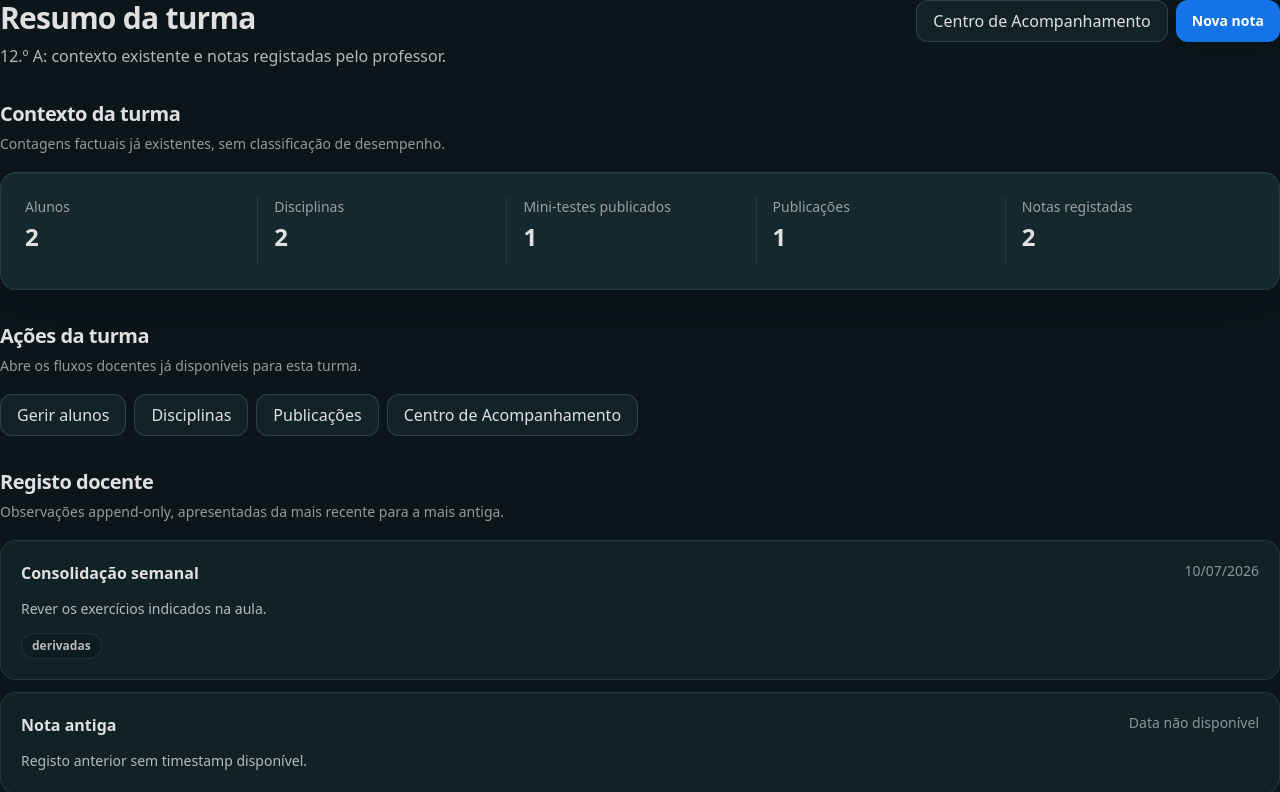
it: TeacherClassProgressPage › cria uma nota normalizada e confirma sem abandonar a página
The width and height of the screenshot is (1280, 792).
Click the button "Nova nota". click: [1228, 21]
box: [1176,0,1279,42]
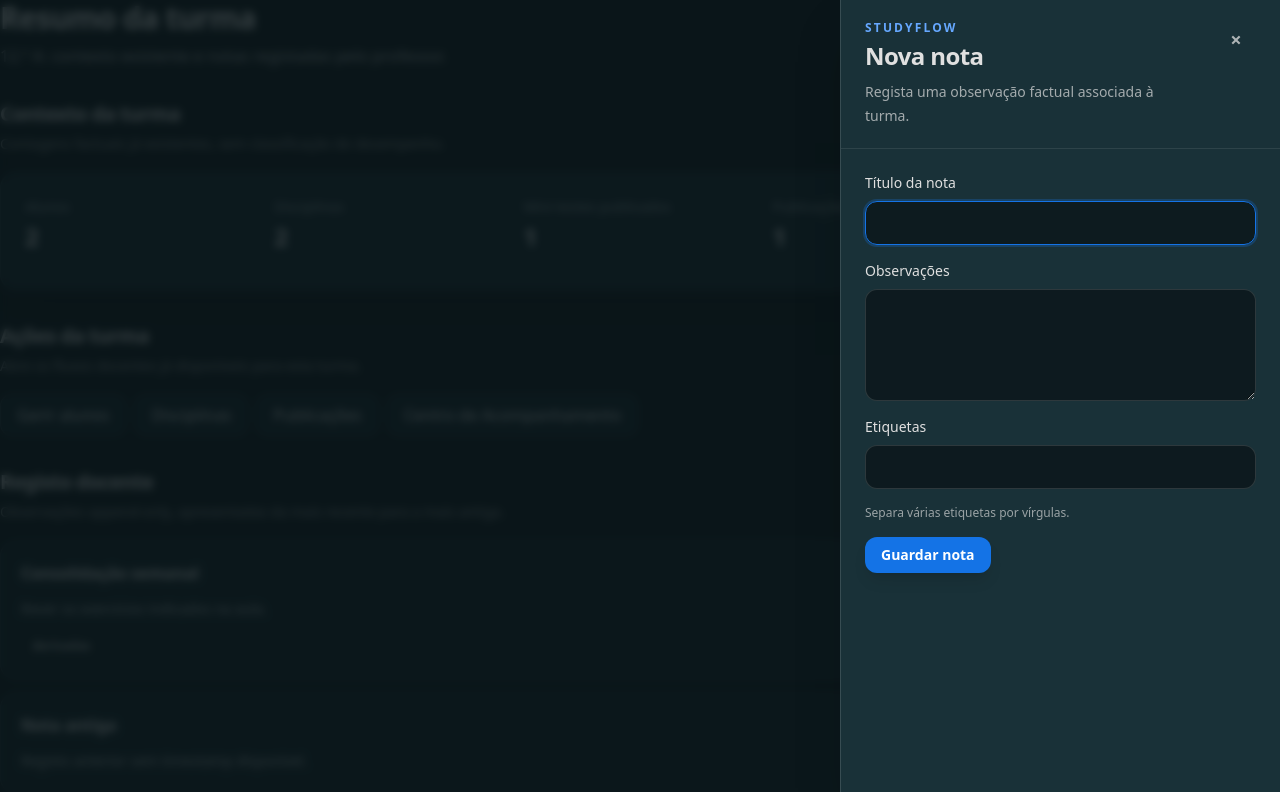
Type "  Nova observação  " into the field labelled "Título da nota". click: [1060, 223]
box: [865,201,1256,245]
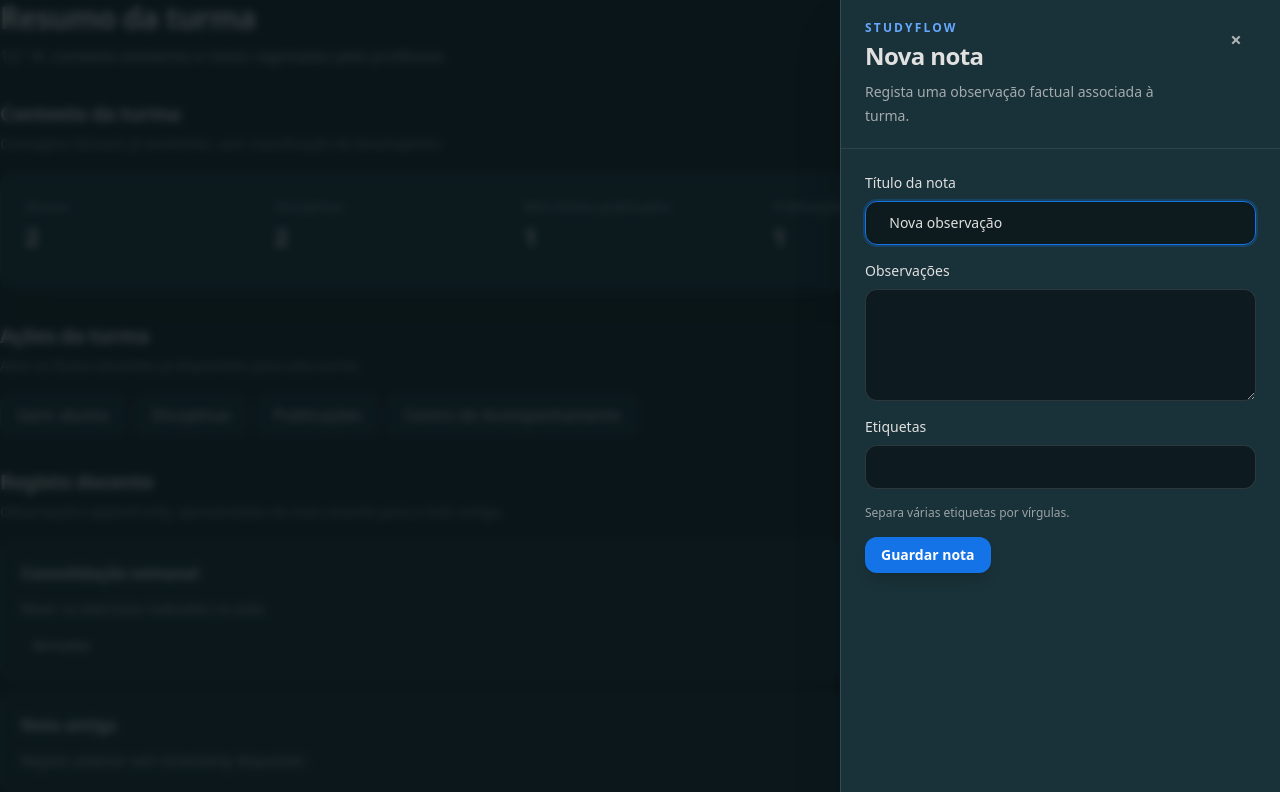
Type "  A turma consolidou a matéria.  " into the text box labelled "Observações". click: [1060, 345]
box: [865,289,1256,401]
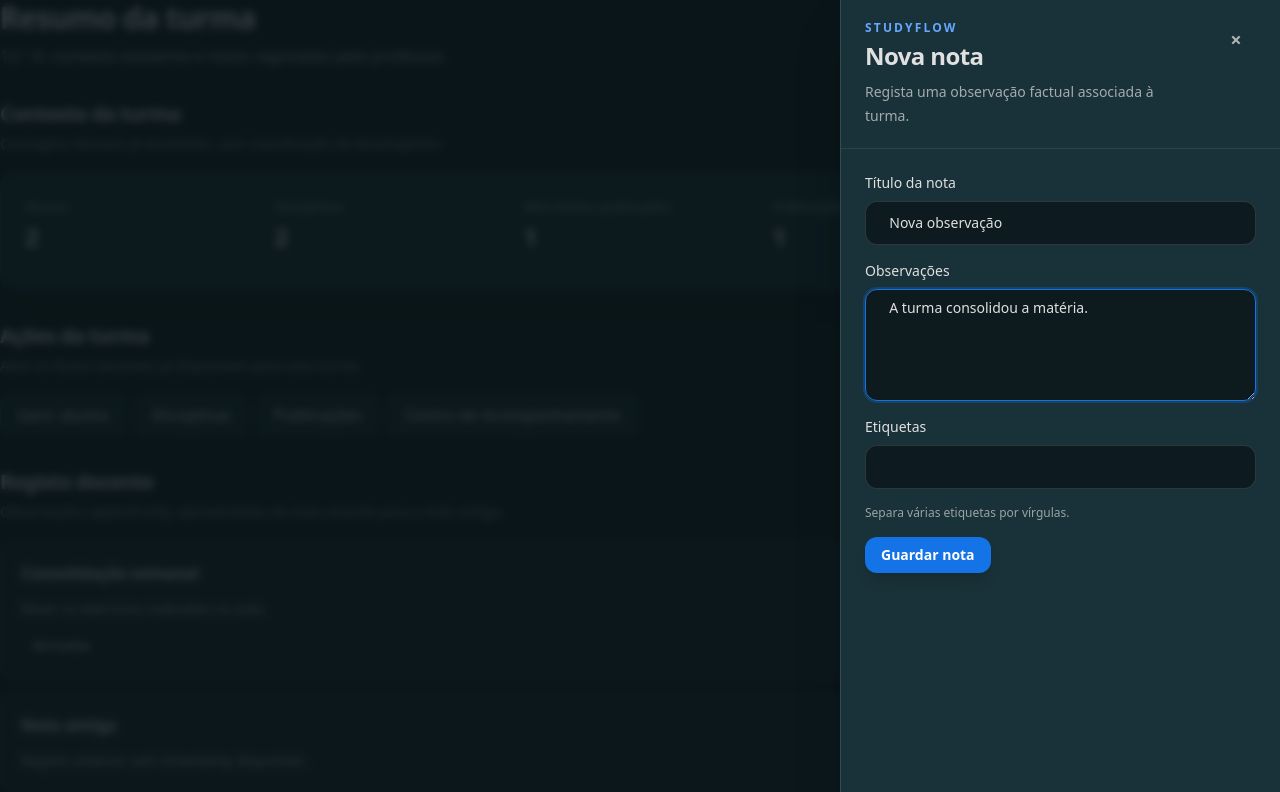
Type " funções, gráficos " into the field labelled "Etiquetas". click: [1060, 467]
box: [865,445,1256,489]
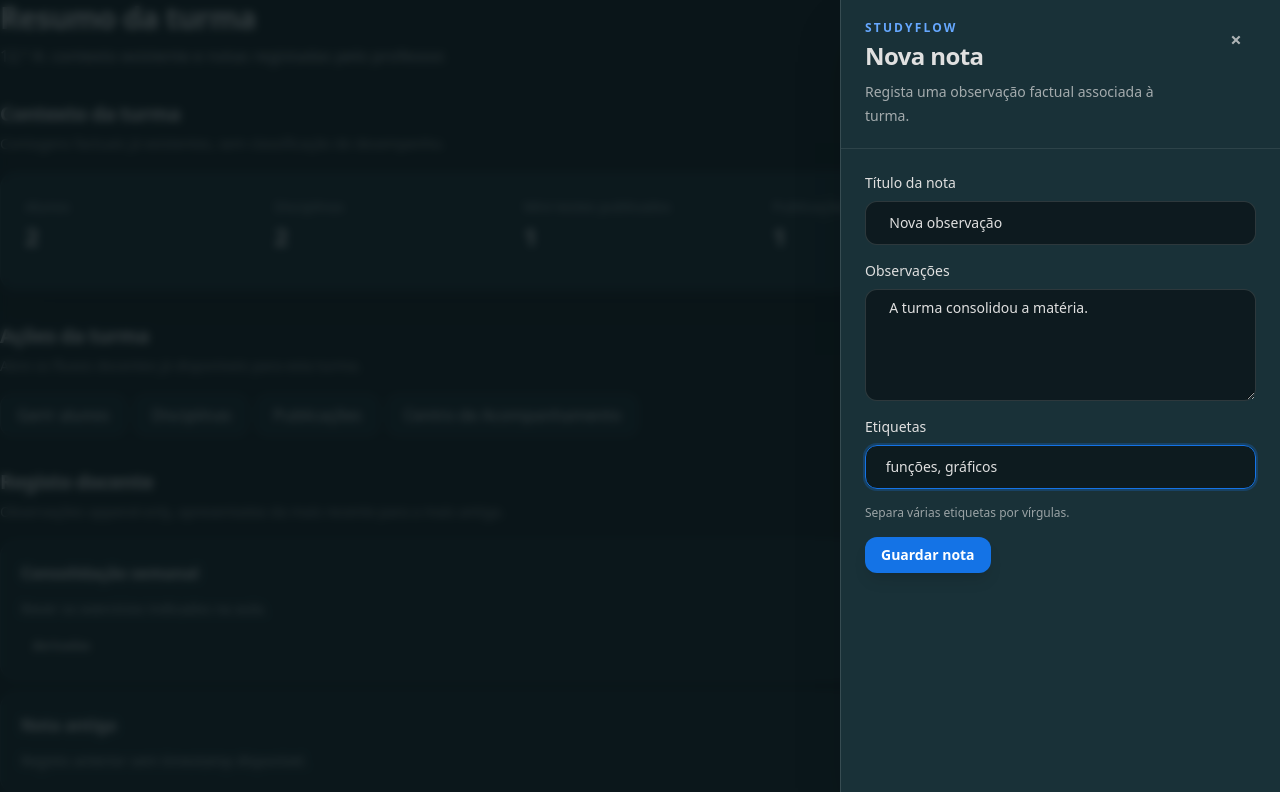
Click the button "Guardar nota". click: [928, 555]
box: [865,537,991,573]
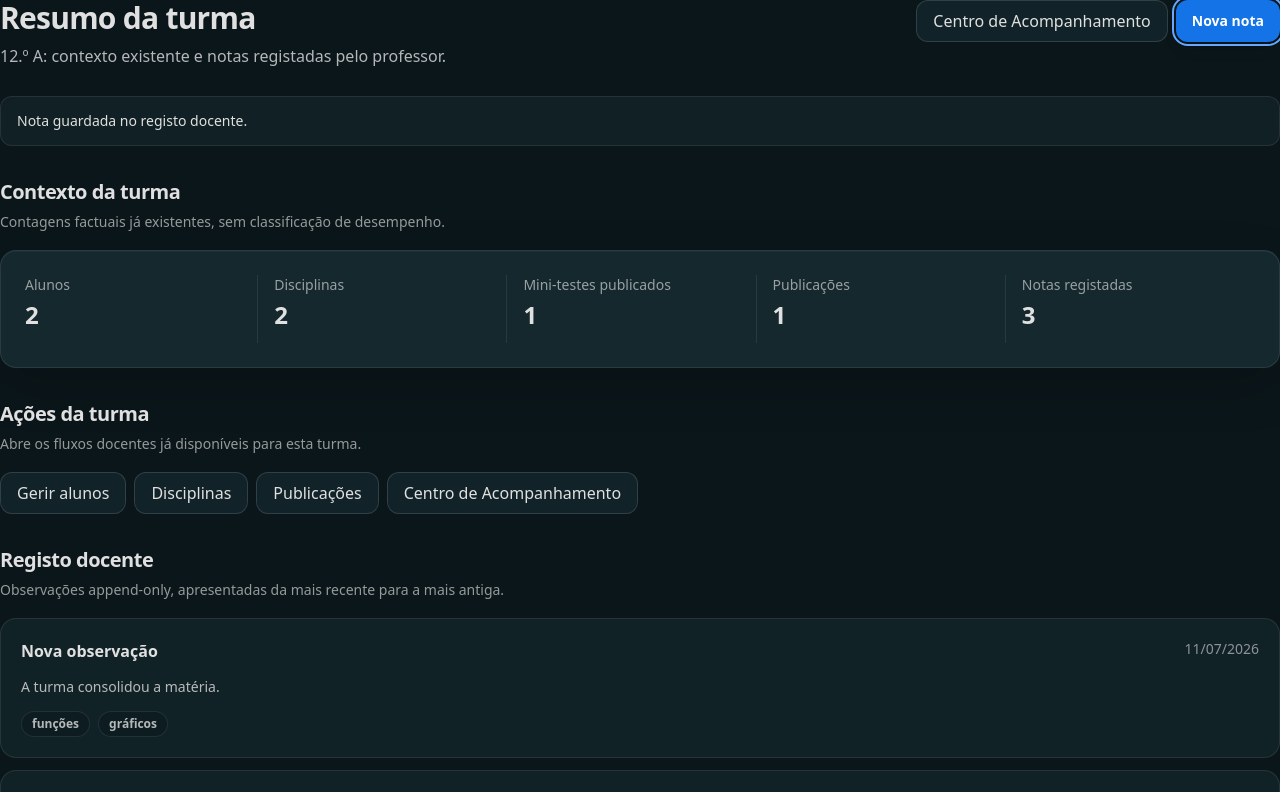
Check: the message reads "Nota guardada no registo docente.", box [17,111,247,130]
Check: the heading "Nova observação" is shown, box [21,639,158,663]
